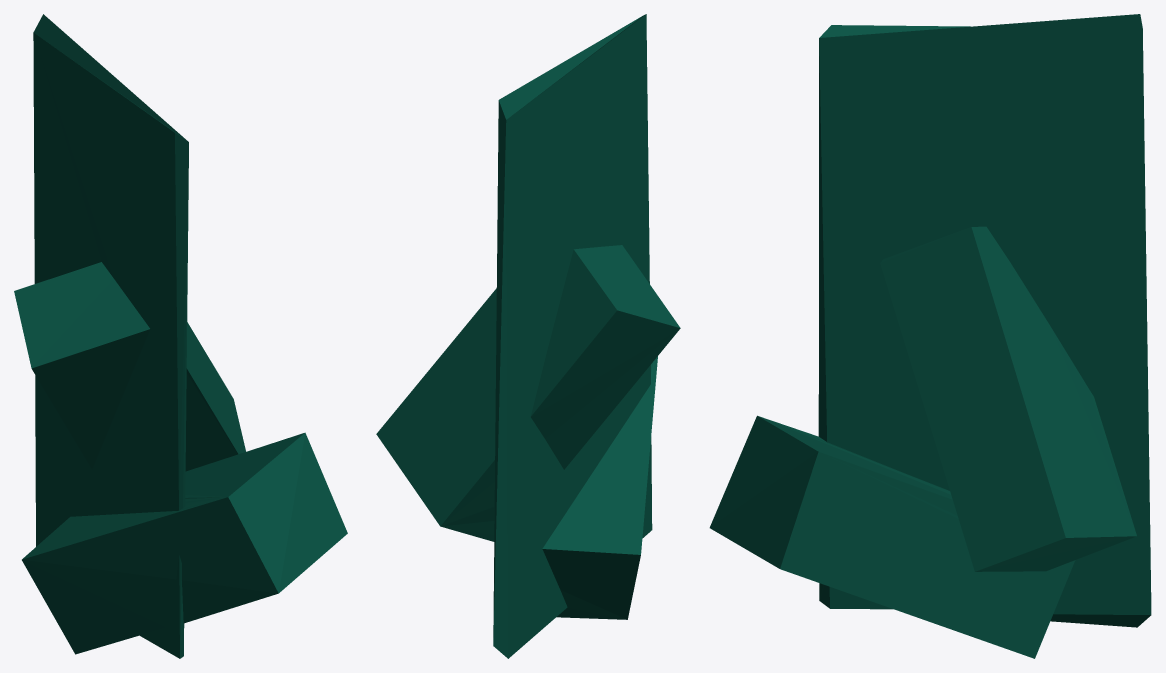
3 views of the same model, side by side, from view 1: azimuth 30°, elevation 25°; view 2: azimuth 150°, elevation 25°; view 3: azimuth 270°, elevation 25° (orthographic). The views are drawn at different scales.
Visible parts, largest first — view 1: 409_Cube.1661; view 2: 409_Cube.1661; view 3: 409_Cube.1661.
Part boxes in pixels (x1=…): 409_Cube.1661: x1=14, y1=14, x2=347, y2=658; 409_Cube.1661: x1=376, y1=14, x2=680, y2=658; 409_Cube.1661: x1=709, y1=14, x2=1151, y2=658.
Bounding box in the file's own units: 5.91 × 12.65 × 8.07.
